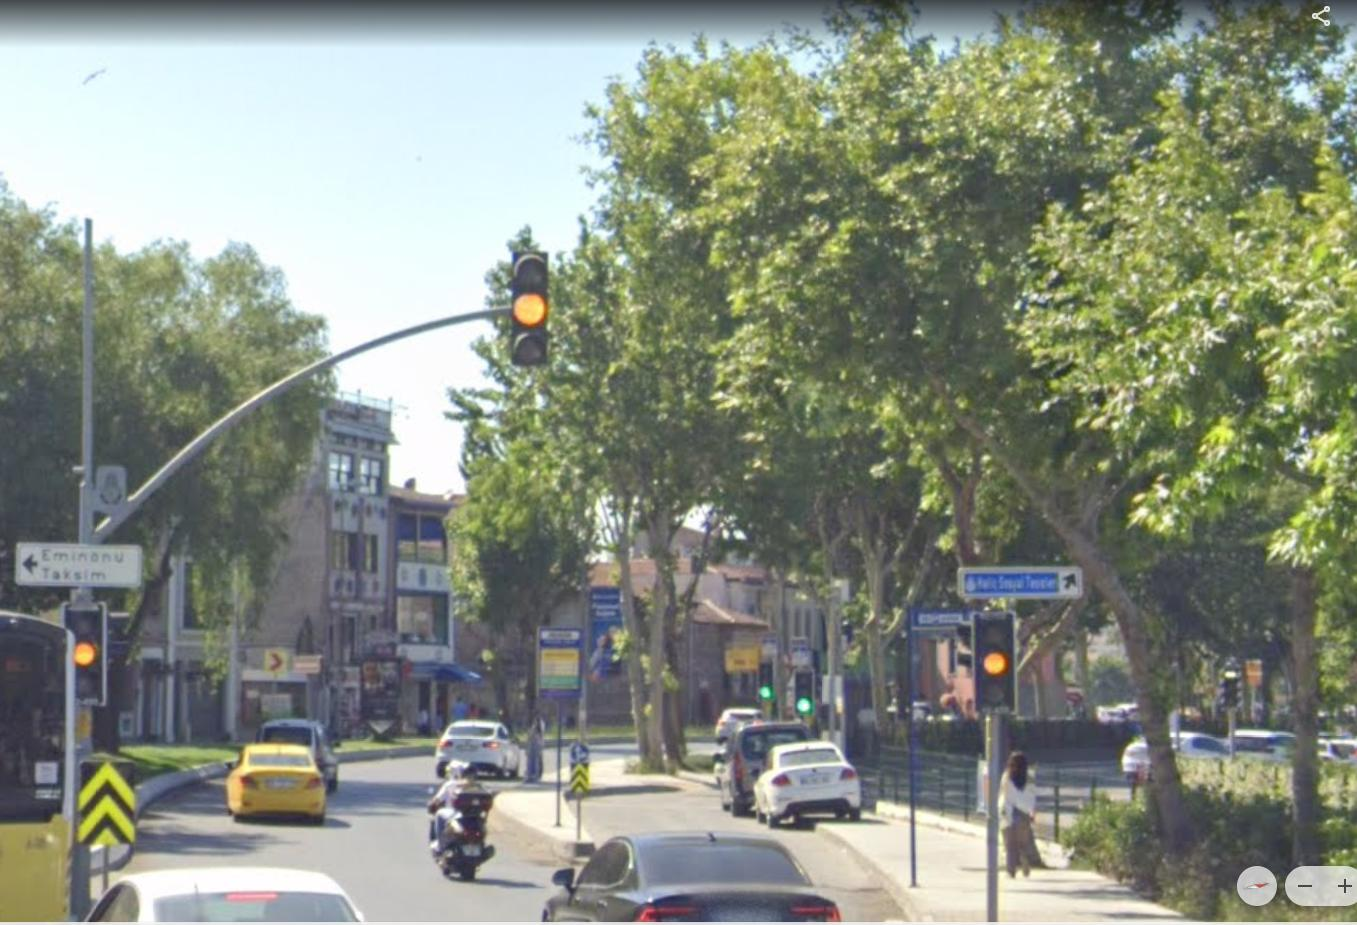yellowlight: (509, 253, 549, 364), (973, 614, 1016, 711), (67, 608, 105, 696)
